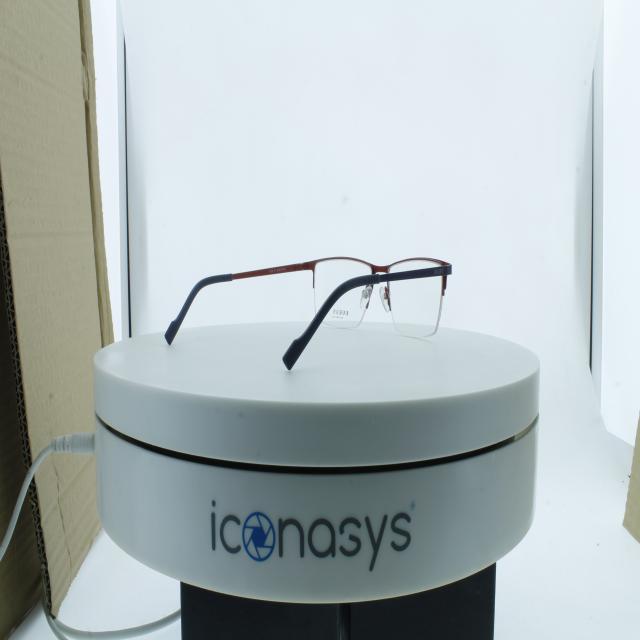Specs: (157, 162, 481, 398)
